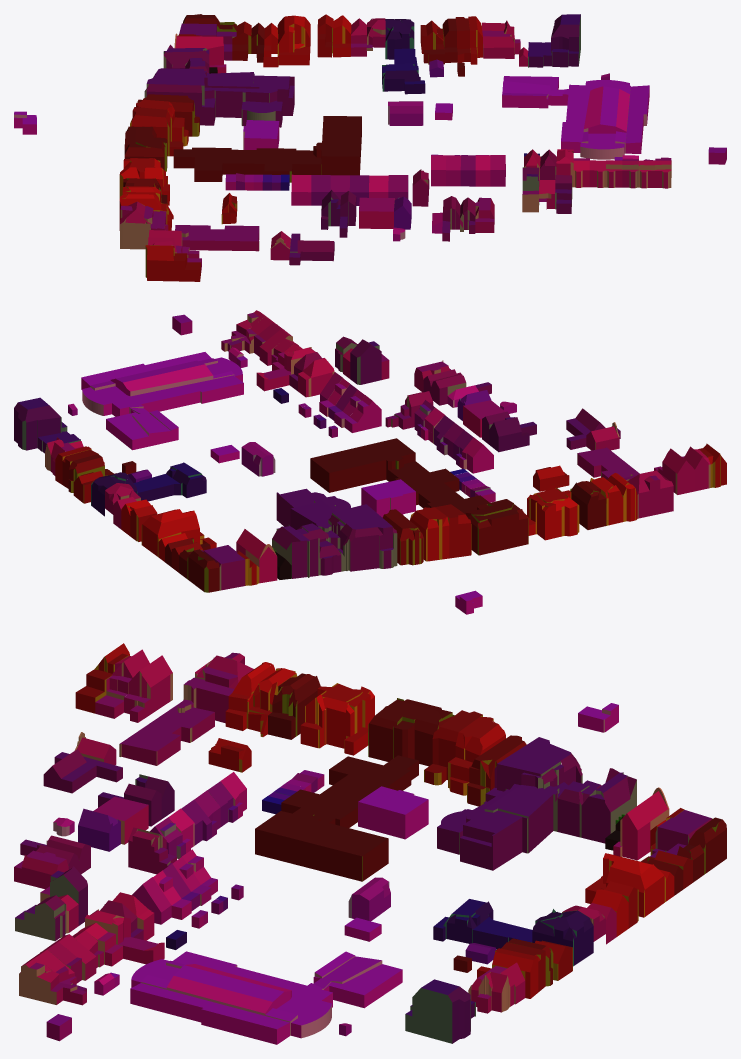
The model's file is buildings_7_11.glb.
3 views of the same model, one above another, from view 1: azimuth 30°, elevation 25°; view 2: azimuth 150°, elevation 25°; view 3: azimuth 270°, elevation 25° (orthographic). The views are drawn at different scales.
Parts seen in each view (by area): view 1: buildings_7_11; view 2: buildings_7_11; view 3: buildings_7_11.
Boxes of the visible parts, box(x1,y1,x2,y2) form: buildings_7_11: box(14, 14, 726, 281); buildings_7_11: box(14, 310, 726, 614); buildings_7_11: box(14, 643, 726, 1044).
Bounding box in the file's own units: 213 × 14.09 × 177.
